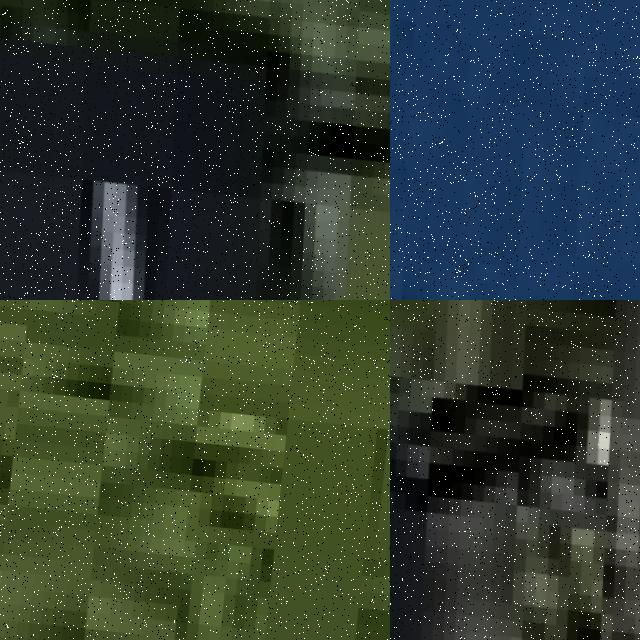0: (0, 0, 390, 300), (390, 300, 640, 640)
drone: (390, 0, 640, 300)
